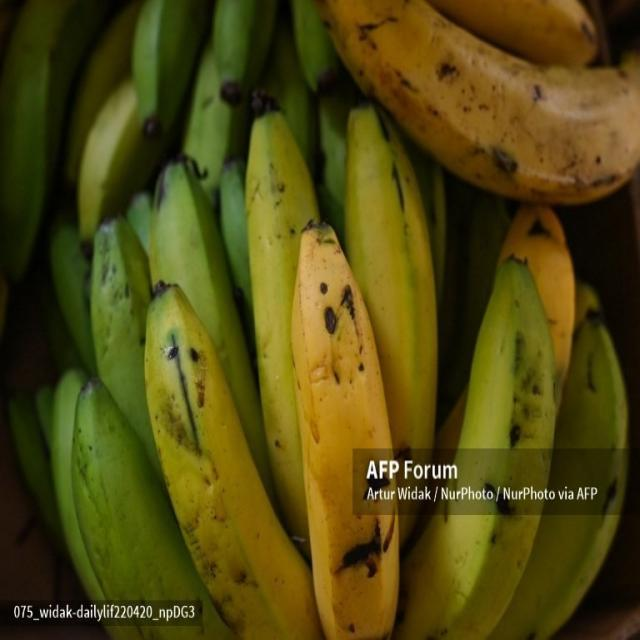Banana: (145, 138, 340, 556), (136, 279, 326, 640), (336, 80, 484, 510)
